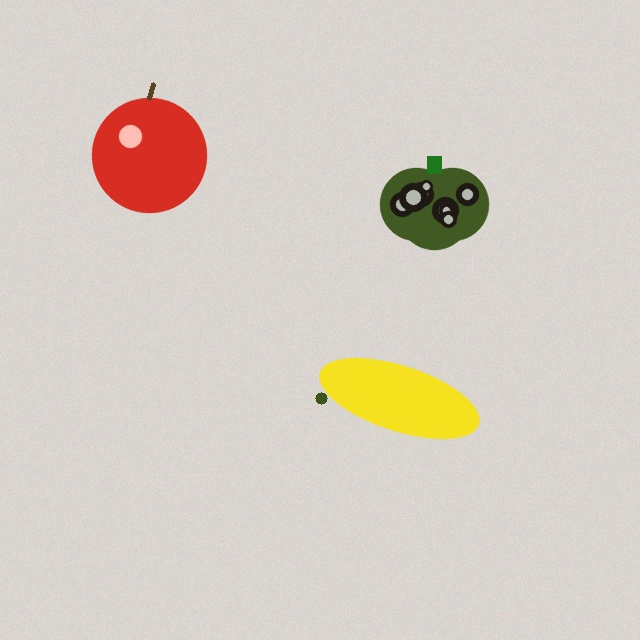Fresh apple: (92, 84, 206, 212)
Fresh banana: (312, 358, 486, 438)
Rotten bell pepper: (380, 156, 488, 249)
